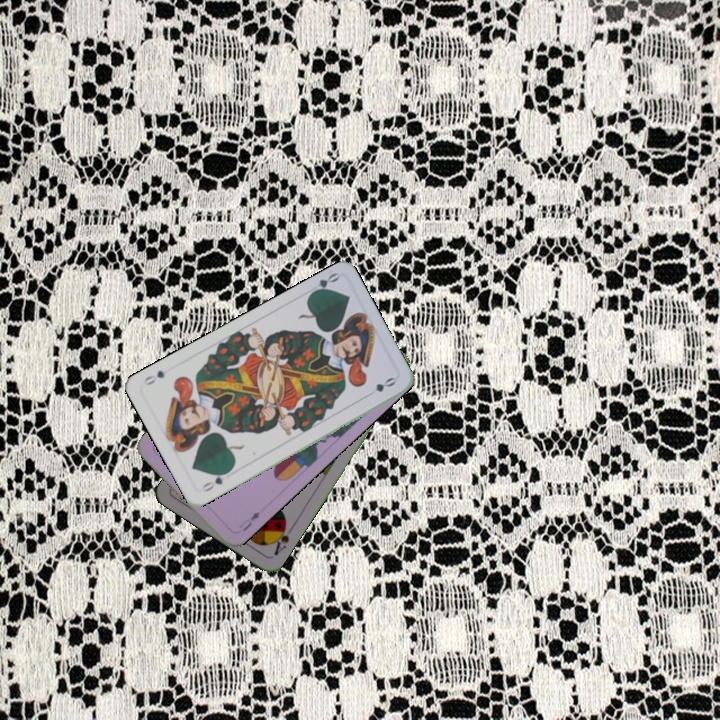EU: (235, 508, 263, 534)
GO: (305, 268, 342, 298), (197, 467, 233, 495)
SA: (268, 519, 296, 558)
